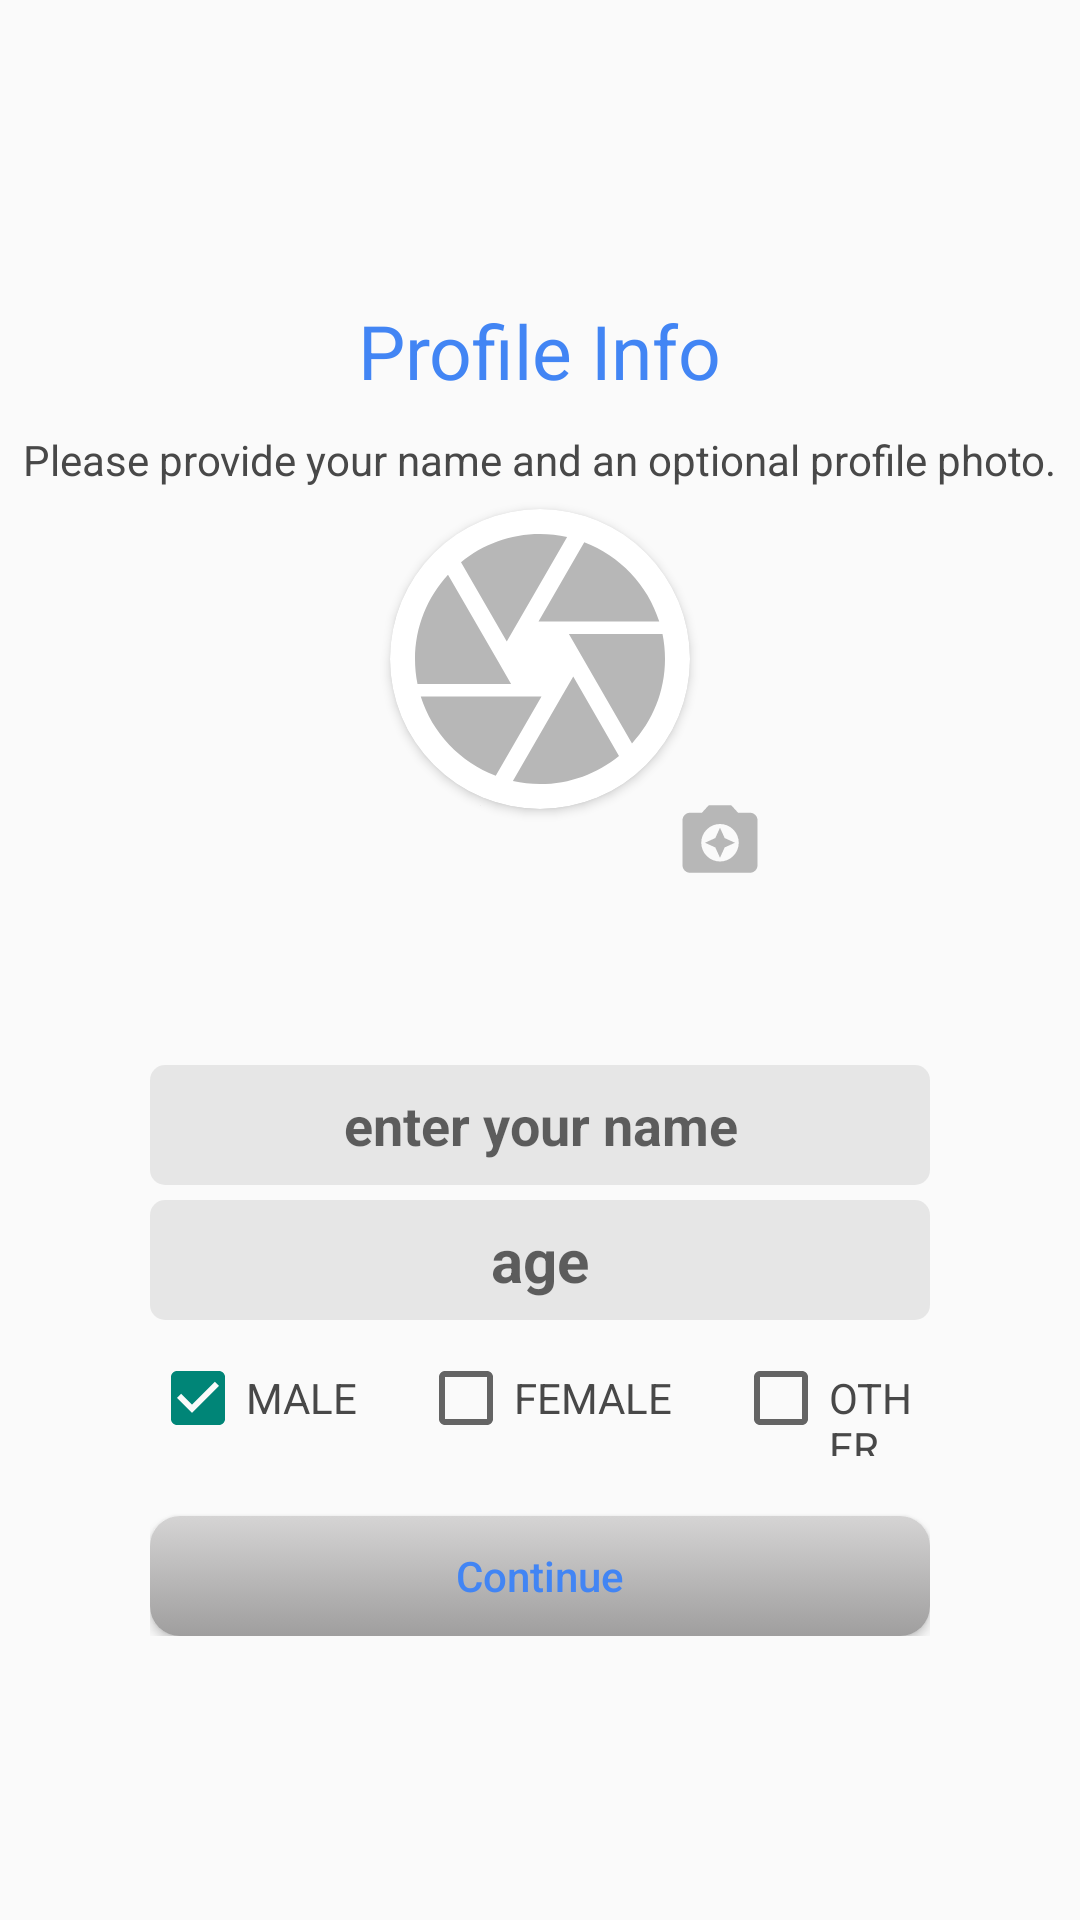

Named icons in this screenshot (1080×1920) and their centers, point (x, y):
camera: point (540, 671), point (720, 839)
